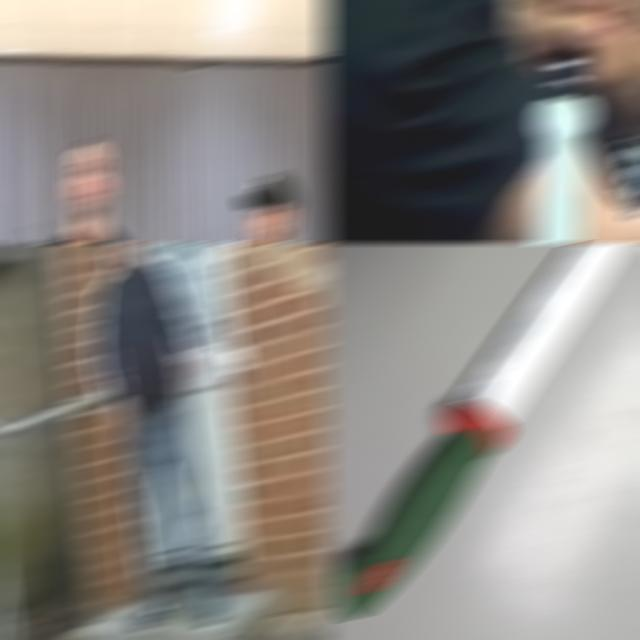Knife: (332, 244, 632, 619), (530, 51, 597, 242)
Knife_Handle: (486, 1, 640, 242), (174, 348, 200, 413), (26, 222, 78, 242)
